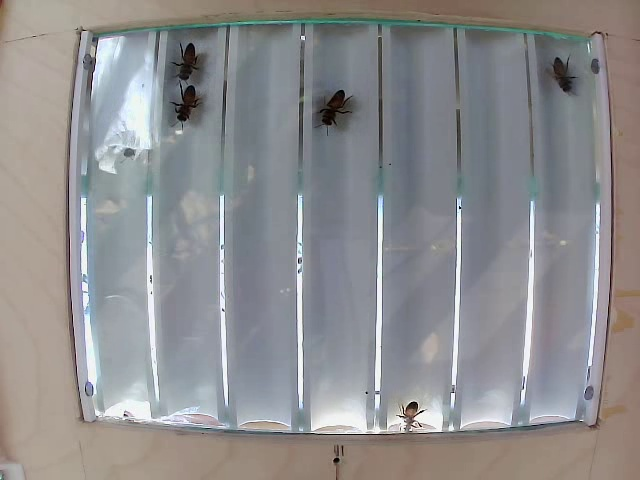bee: (163, 80, 223, 136), (168, 39, 223, 90), (305, 100, 363, 141), (544, 55, 586, 109), (391, 397, 427, 445)
